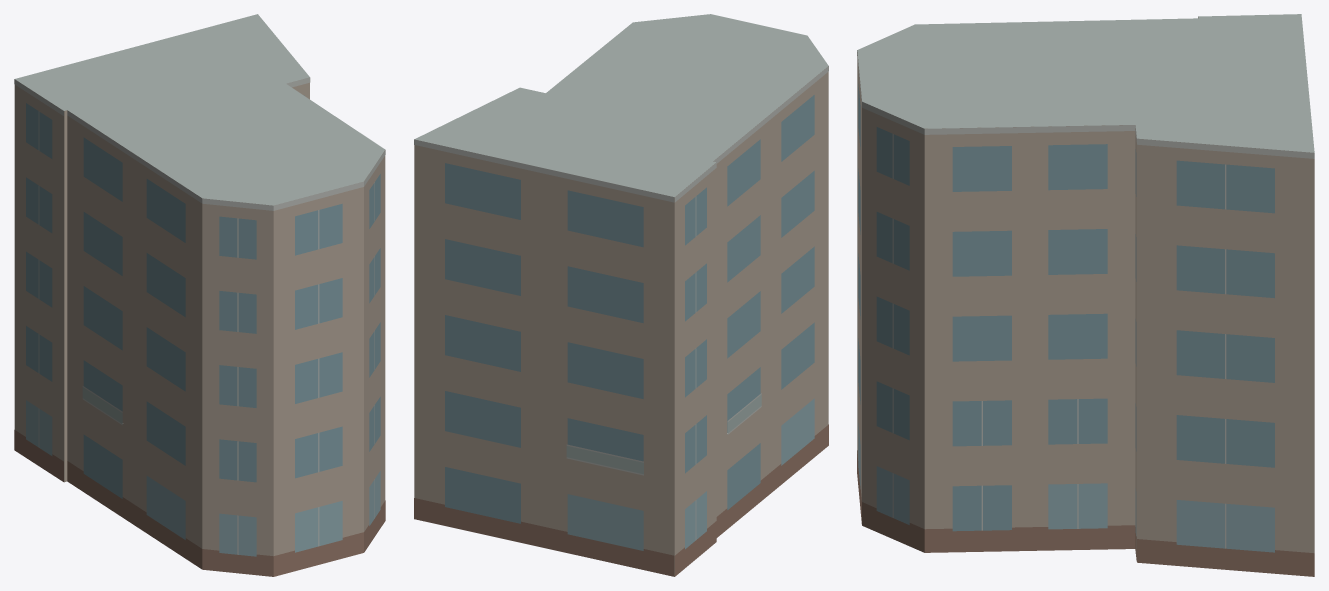
The model's file is survey-upis-32968437.glb.
3 renders of one model, left to right at view 1: azimuth 30°, elevation 25°; view 2: azimuth 150°, elevation 25°; view 3: azimuth 270°, elevation 25°, orthographic. The views are drawn at different scales.
Parts seen in each view (by area): view 1: survey-upis-32968437.tmp; view 2: survey-upis-32968437.tmp; view 3: survey-upis-32968437.tmp.
Part boxes in pixels (x1,y1,x2,y2): survey-upis-32968437.tmp: (14, 14, 385, 576); survey-upis-32968437.tmp: (414, 14, 828, 576); survey-upis-32968437.tmp: (857, 14, 1314, 576).
Bounding box in the file's own units: 11.88 × 16.9 × 16.53.
